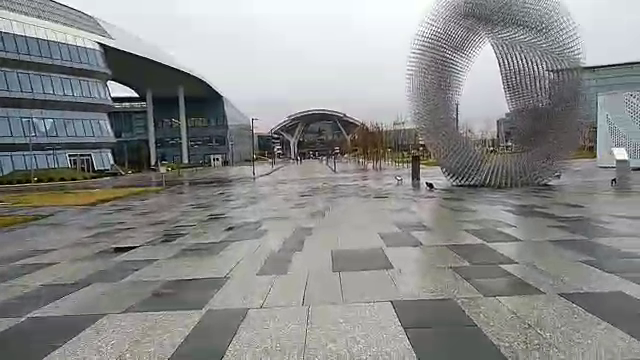mega: (270, 105, 376, 169)
